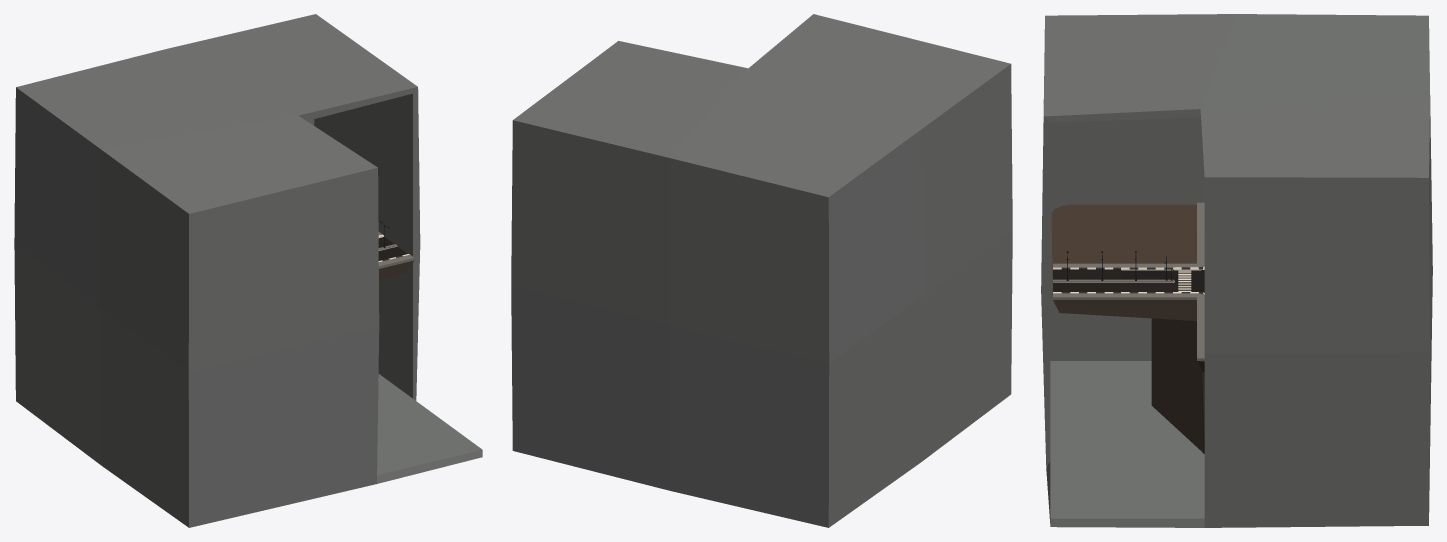
Rendered from crossroad.glb.
3 views of the same model, side by side, from view 1: azimuth 30°, elevation 25°; view 2: azimuth 150°, elevation 25°; view 3: azimuth 270°, elevation 25° (orthographic). The views are drawn at different scales.
Visible parts, largest first — view 1: Cube.001, Cube; view 2: Cube.001; view 3: Cube.001, Cube.
Boxes of the visible parts, bbox=[...] form: Cube.001: bbox=[14, 14, 482, 527]; Cube: bbox=[378, 221, 414, 281]; Cube.001: bbox=[511, 14, 1012, 527]; Cube.001: bbox=[1041, 14, 1432, 527]; Cube: bbox=[1051, 202, 1204, 453].
Size of the model in its own units: 76.37 by 76.37 by 76.37.
1 material, 1 textured.
